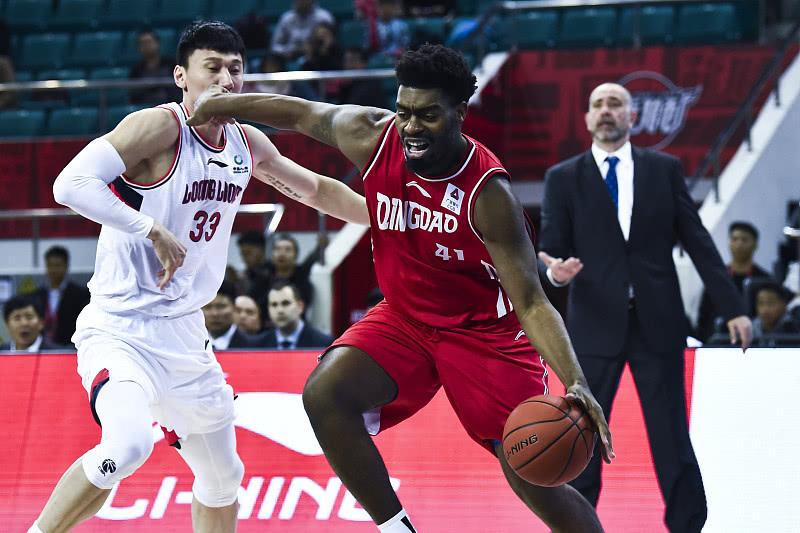ball: (503, 394, 597, 485)
